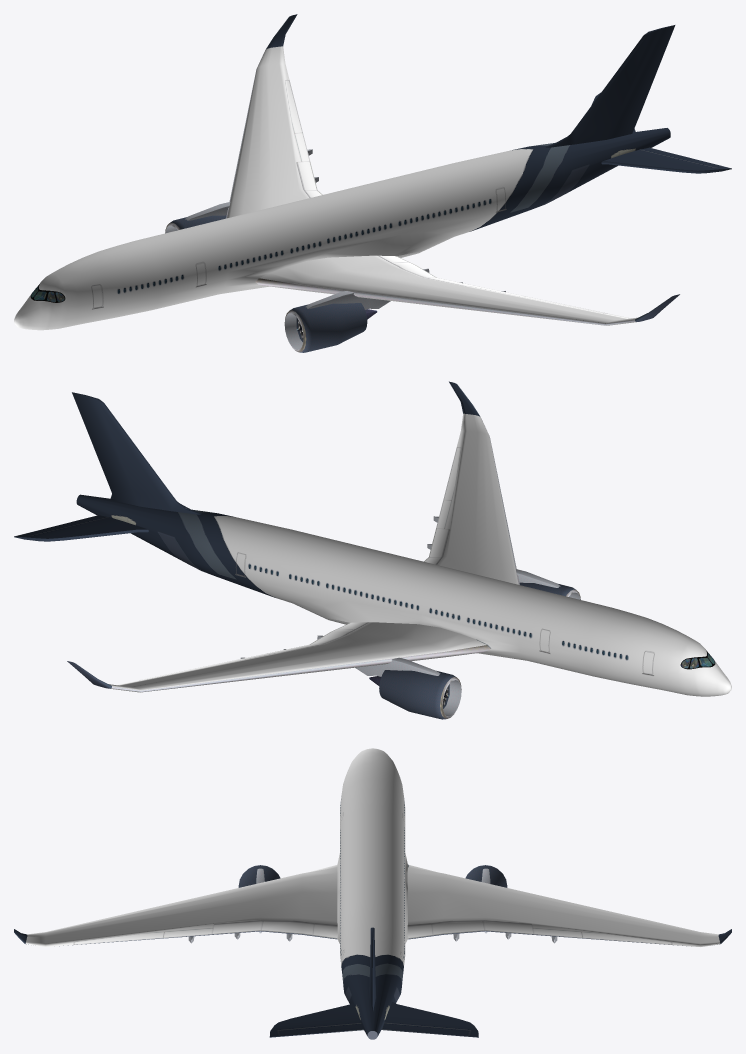
3 views of the same model, one above another, from view 1: azimuth 30°, elevation 25°; view 2: azimuth 150°, elevation 25°; view 3: azimuth 270°, elevation 25° (orthographic). The views are drawn at different scales.
Visible parts, largest first — view 1: A350; view 2: A350; view 3: A350.
Part boxes in pixels (<box>): A350: <box>14,14,731,352</box>; A350: <box>14,381,731,719</box>; A350: <box>14,748,731,1039</box>.
Size of the model in its own units: 66.8 by 17.03 by 66.86.
1 material, 1 textured.
